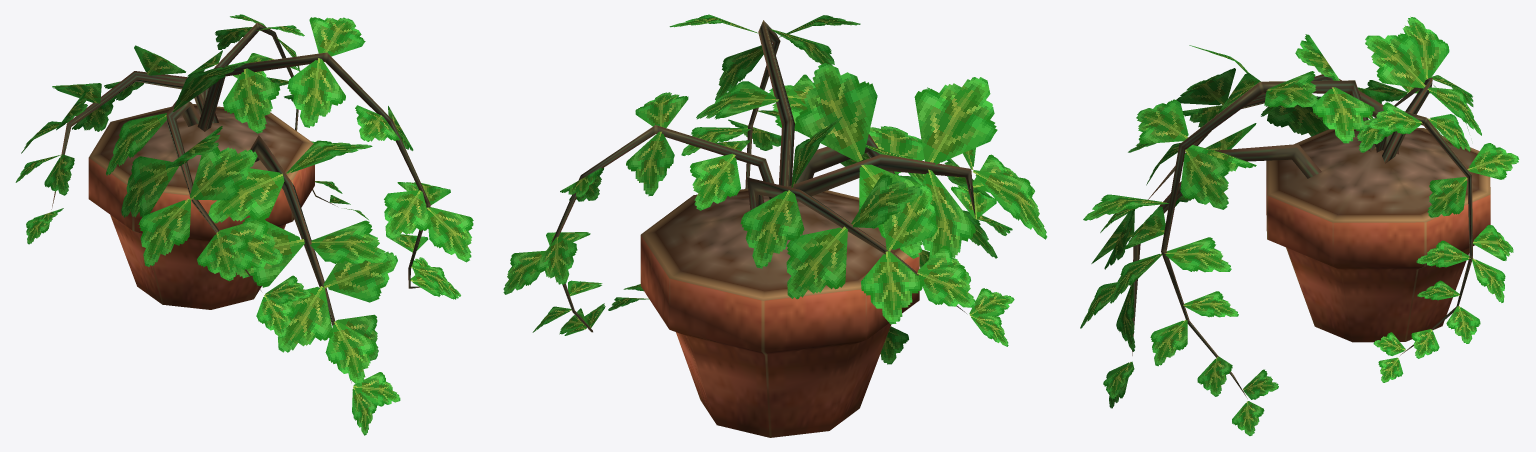
File: INST_BE_POTTEDPLANT.fbx
3 renders of one model, left to right at view 1: azimuth 30°, elevation 25°; view 2: azimuth 150°, elevation 25°; view 3: azimuth 270°, elevation 25°, orthographic. The views are drawn at different scales.
Parts seen in each view (by area): view 1: INST_BE_POTTEDPLANT; view 2: INST_BE_POTTEDPLANT; view 3: INST_BE_POTTEDPLANT.
Boxes of the visible parts, left/top/right/bottom form: INST_BE_POTTEDPLANT: left=15, top=14, right=473, bottom=435; INST_BE_POTTEDPLANT: left=503, top=14, right=1047, bottom=437; INST_BE_POTTEDPLANT: left=1080, top=16, right=1519, bottom=435.
Bounding box in the file's own units: 6091 × 5204 × 5790.
3 materials, 3 textured.
